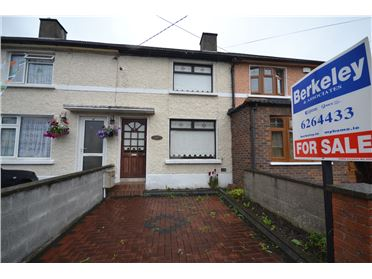property sign: (283, 34, 372, 182)
